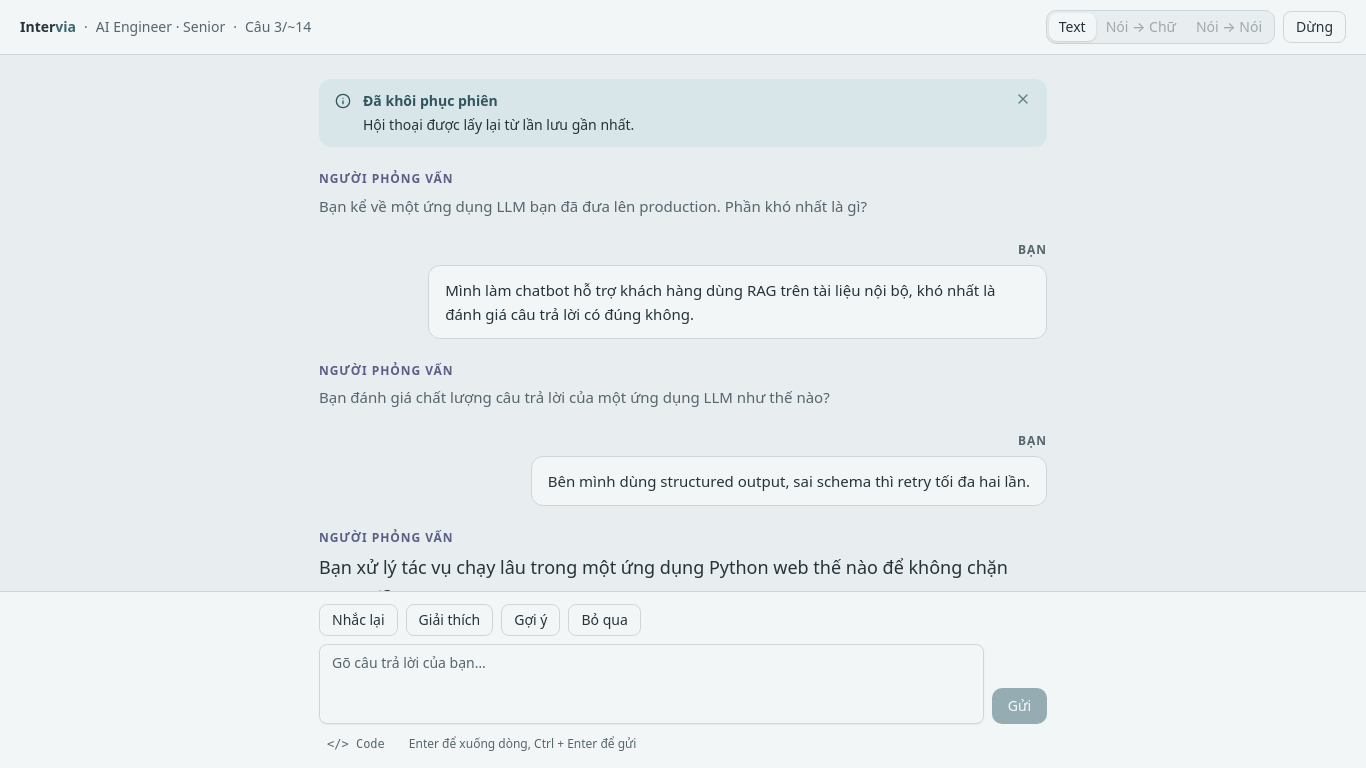
Text mode bottom bar (UI-6.3) › keeps the typed answer and shows why when sending fails
The width and height of the screenshot is (1366, 768).
(page scrolled)
Expected: the text "RAG trên tài liệu nội bộ" is shown, [445,280,999,324]
In the text box labelled "câu trả lời": (651, 684) [319,644,984,724], type "Câu trả lời quan trọng"
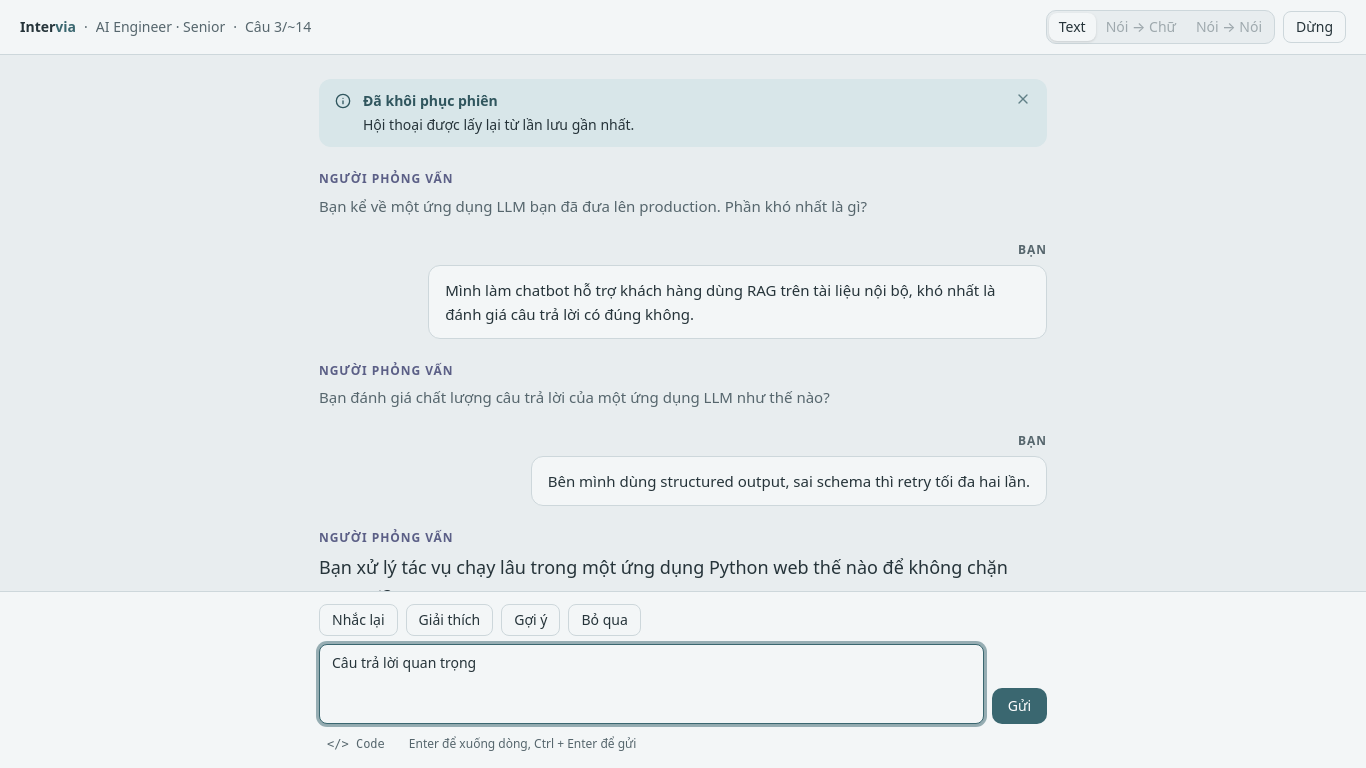
Click the button "Gửi": (1019, 706) [992,688,1047,724]
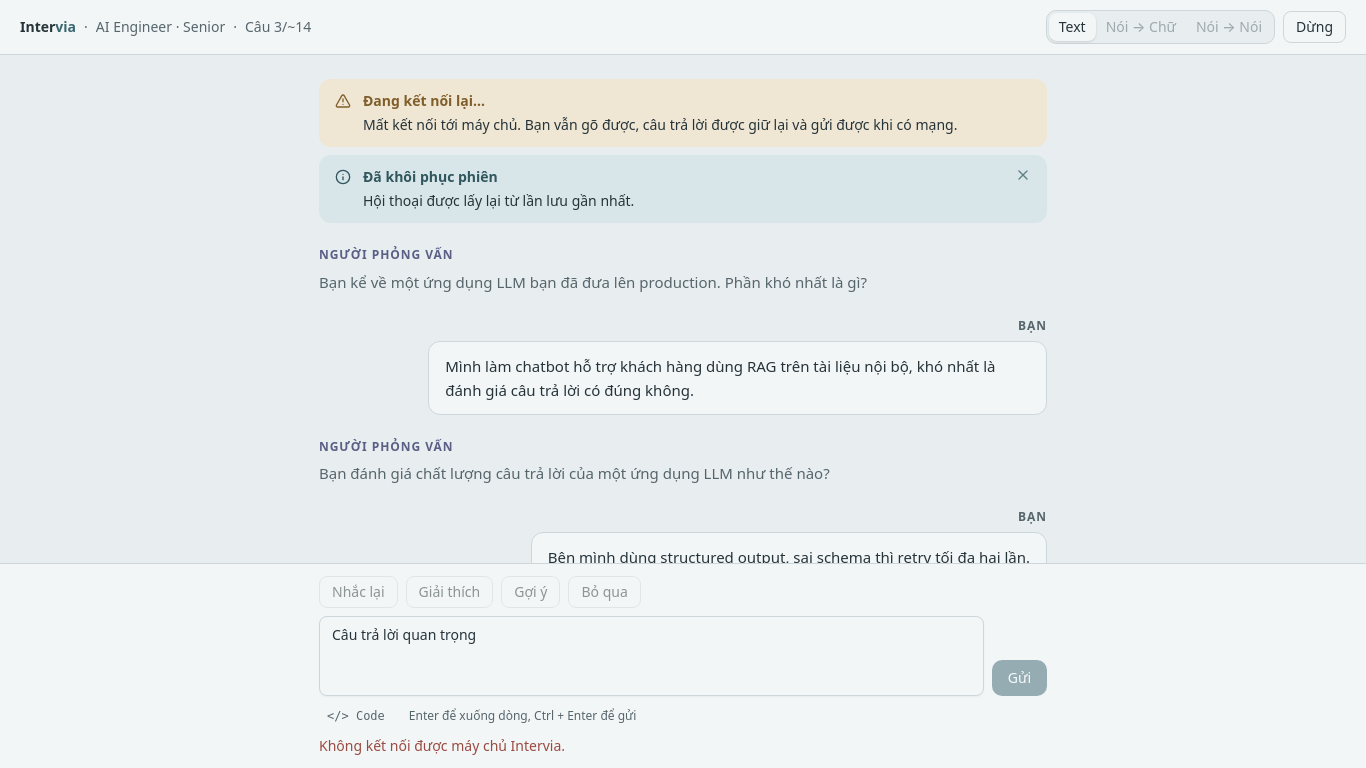
Expected: the message "Không kết nối được máy chủ Intervia." is shown, [319,736,565,755]
